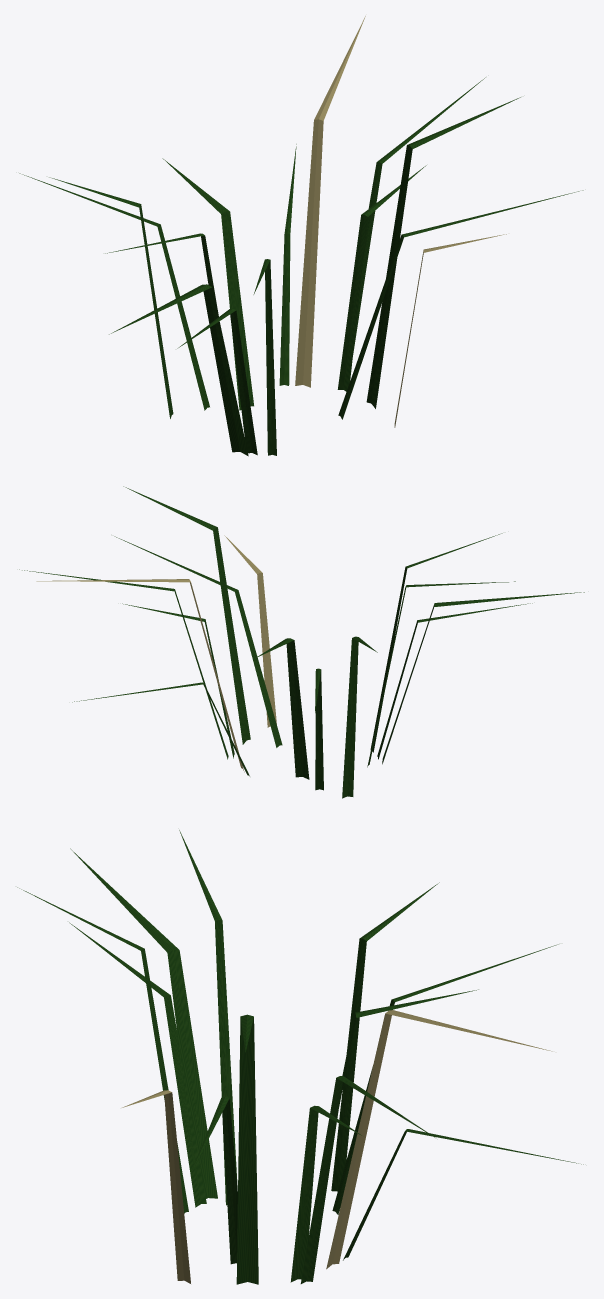
Rendered from Woodland_Grass_Tuft_02_LOD2.fbx.
3 renders of one model, top to bottom at view 1: azimuth 30°, elevation 25°; view 2: azimuth 150°, elevation 25°; view 3: azimuth 270°, elevation 25°, orthographic. The views are drawn at different scales.
Parts seen in each view (by area): view 1: Woodland_Grass_Tuft_02_LOD2_Foliage; view 2: Woodland_Grass_Tuft_02_LOD2_Foliage; view 3: Woodland_Grass_Tuft_02_LOD2_Foliage.
Part boxes in pixels (x1,y1,x2,y2): Woodland_Grass_Tuft_02_LOD2_Foliage: (19,16,583,456); Woodland_Grass_Tuft_02_LOD2_Foliage: (19,486,584,798); Woodland_Grass_Tuft_02_LOD2_Foliage: (17,830,583,1284).
Bounding box in the file's own units: 98.04 × 47.51 × 77.84.
2 materials, 1 textured.
